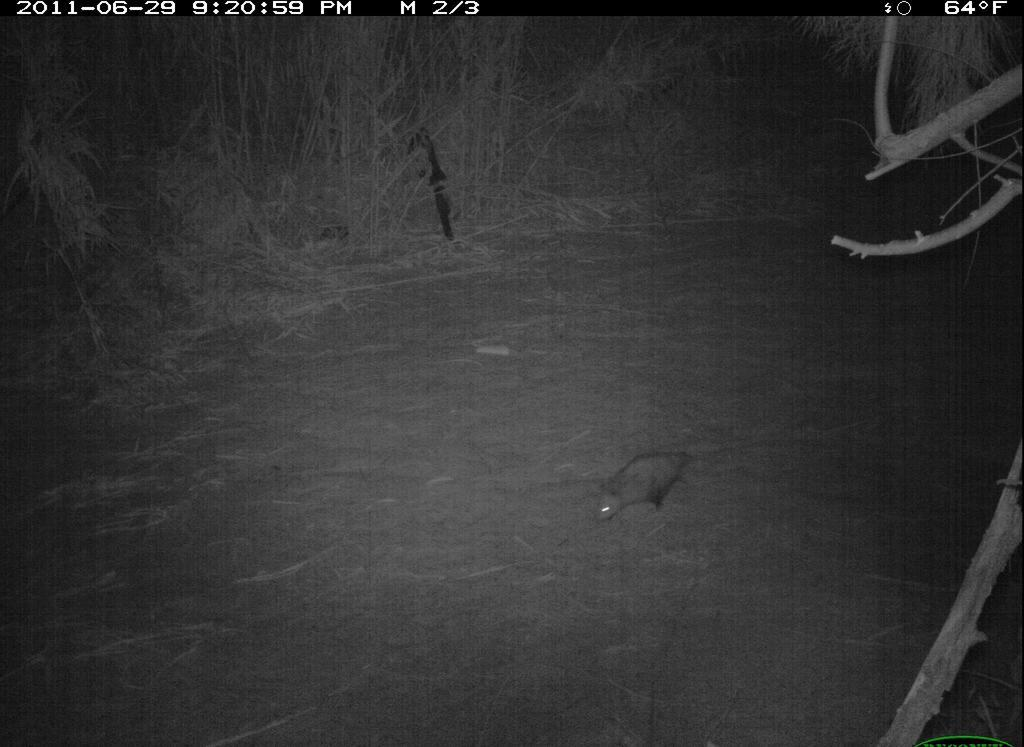opossum: (585, 436, 711, 538)
